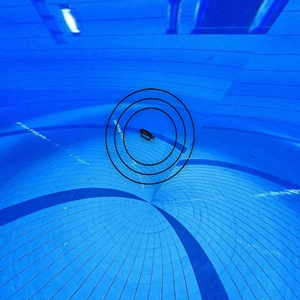circle: (99, 85, 196, 188)
submarine: (137, 124, 160, 143)
